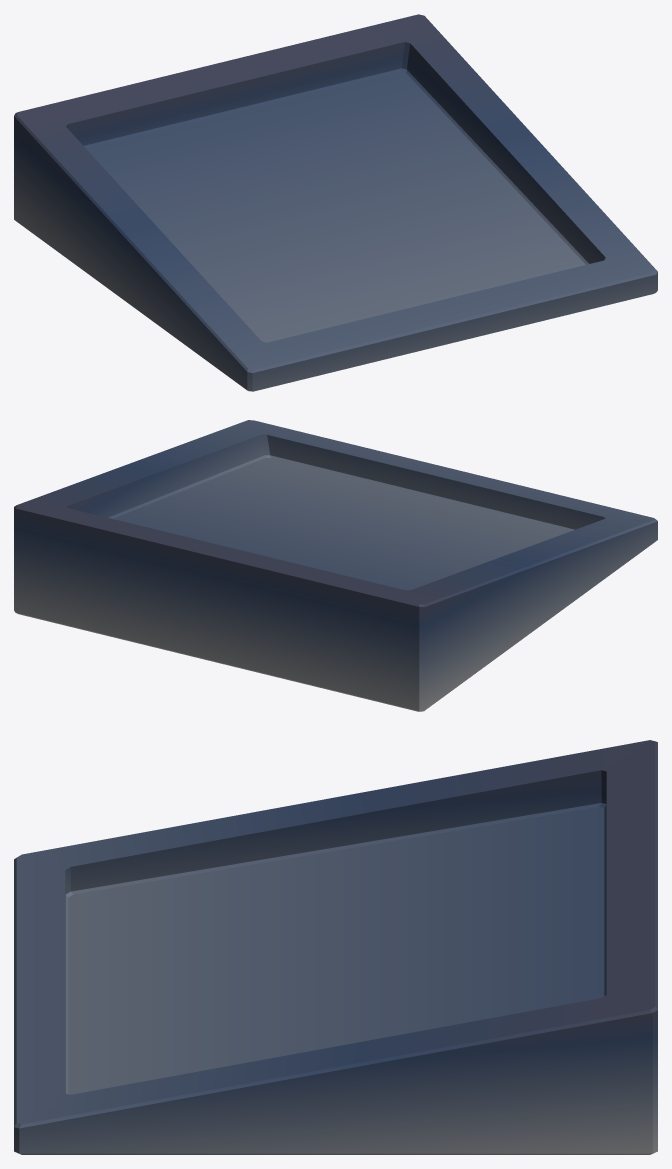
Rendered from Tile_WadahBiru.fbx.
3 views of the same model, one above another, from view 1: azimuth 30°, elevation 25°; view 2: azimuth 150°, elevation 25°; view 3: azimuth 270°, elevation 25° (orthographic). The views are drawn at different scales.
Parts seen in each view (by area): view 1: Alas Tile; view 2: Alas Tile; view 3: Alas Tile.
Boxes of the visible parts, x1,y1,x2,y2 form: Alas Tile: (14,14,657,391); Alas Tile: (14,420,657,711); Alas Tile: (14,740,657,1154).
Size of the model in its own units: 12 by 3 by 12.
Materials: 1 (1 with a texture image).
